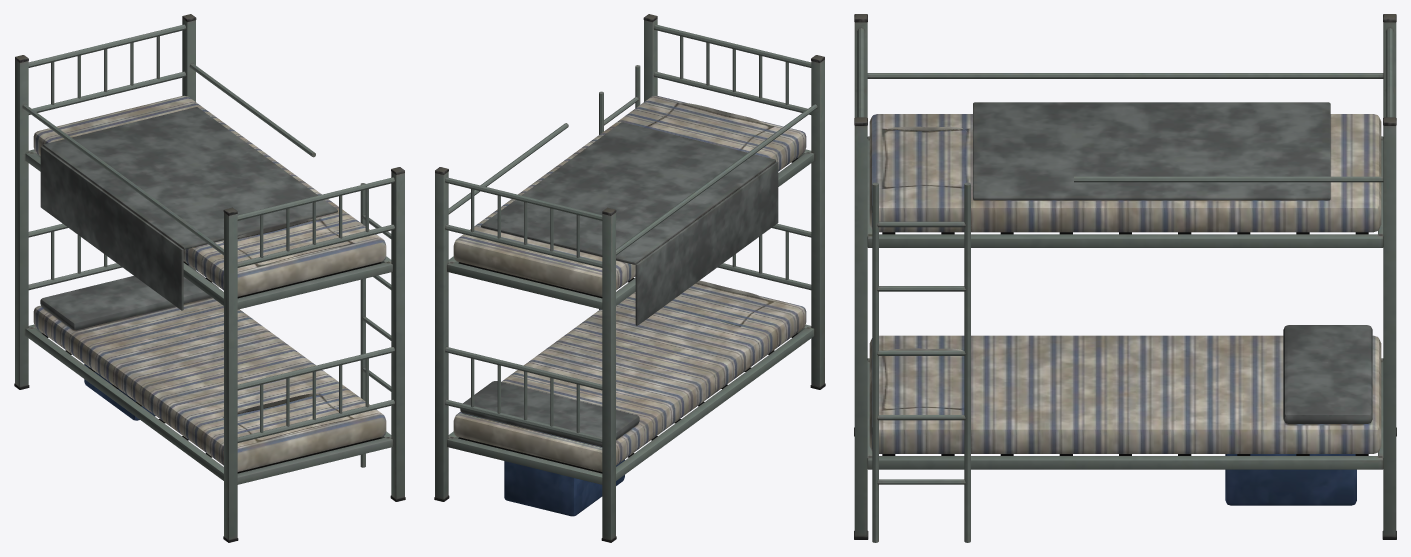
Rendered from beliche.glb.
The picture shows the model from 3 angles, left to right: view 1: azimuth 30°, elevation 25°; view 2: azimuth 150°, elevation 25°; view 3: azimuth 270°, elevation 25°; orthographic projection. The views are drawn at different scales.
Visible parts, largest first — view 1: beliche; view 2: beliche; view 3: beliche.
Boxes of the visible parts, left/top/right/bottom form: beliche: left=14, top=14, right=405, bottom=542; beliche: left=434, top=14, right=825, bottom=542; beliche: left=854, top=14, right=1396, bottom=542.
Size of the model in its own units: 1.01 by 1.75 by 2.06.
1 material, 1 textured.
